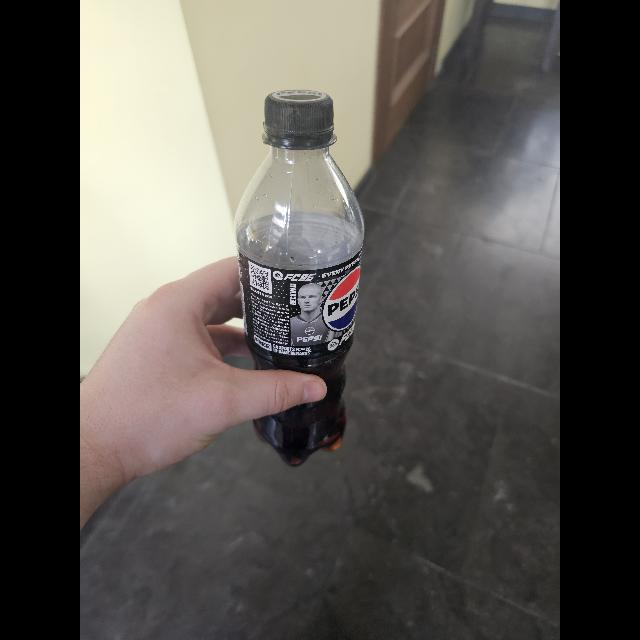Plastic: (236, 90, 360, 470)
